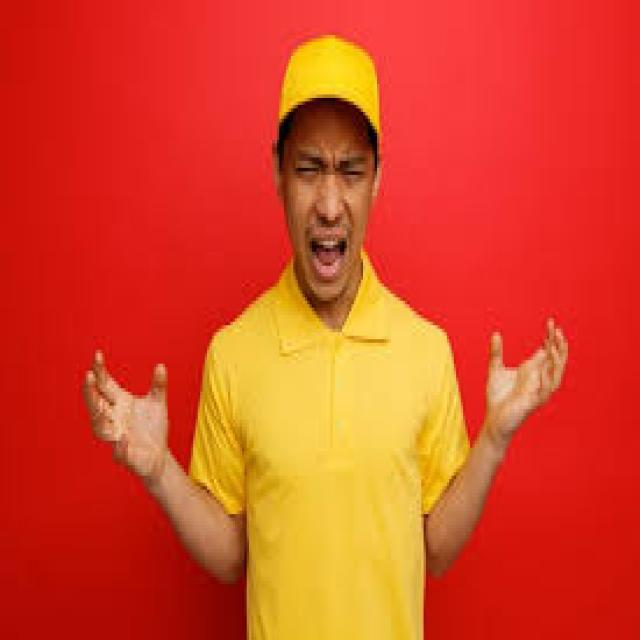cap: (270, 38, 389, 304)
